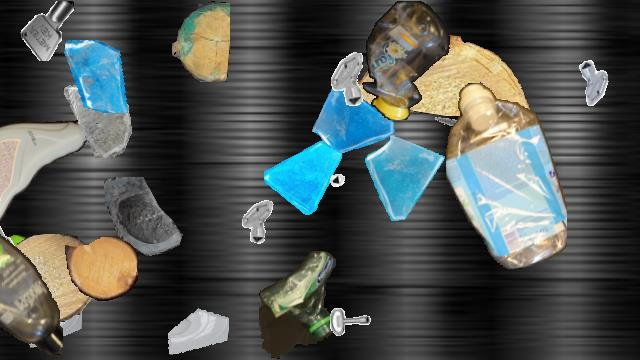glass: (101, 177, 195, 271), (359, 133, 451, 225), (311, 76, 399, 164), (264, 137, 342, 215), (61, 84, 135, 158), (61, 40, 133, 112), (167, 296, 229, 358), (25, 291, 81, 347)
metal: (19, 1, 79, 61), (317, 50, 375, 108), (324, 303, 380, 359), (572, 57, 620, 105), (231, 196, 279, 244), (430, 104, 474, 148), (0, 194, 31, 256), (327, 156, 365, 194)
plastic: (446, 81, 566, 269), (0, 114, 90, 242), (361, 1, 451, 119), (0, 209, 62, 359), (259, 249, 337, 359), (0, 234, 52, 326)
wood: (355, 35, 541, 115), (0, 234, 97, 322), (172, 1, 230, 81), (65, 237, 137, 301)
